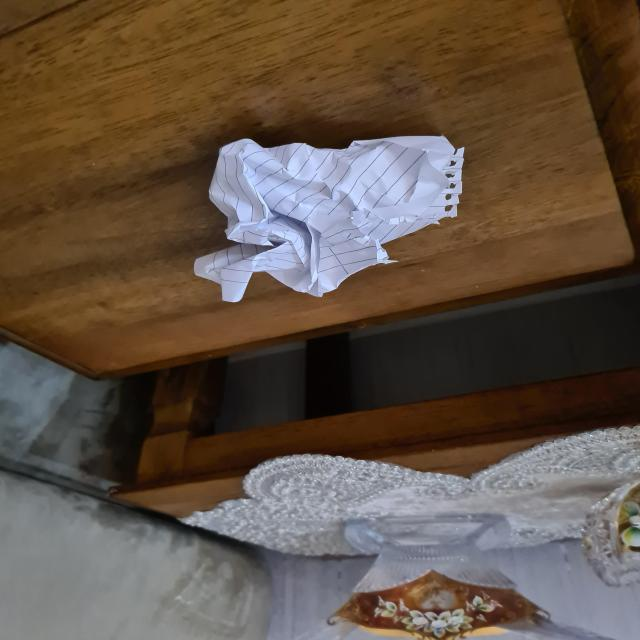kertas: (188, 133, 462, 304)
